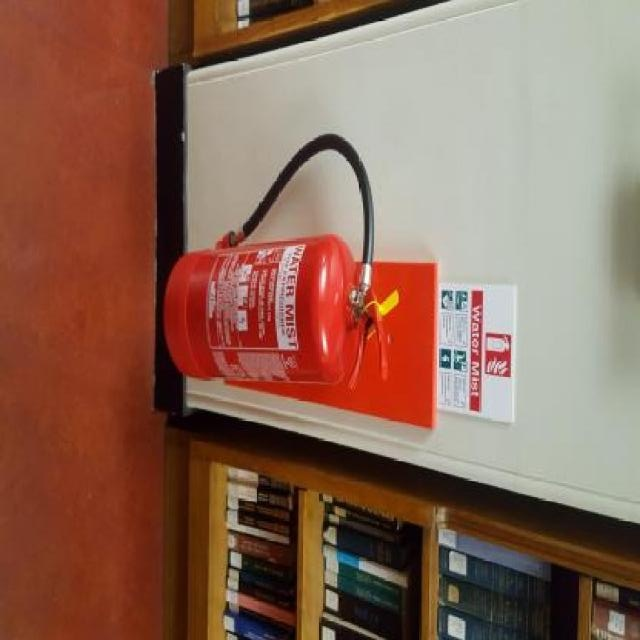fire extinguisher: (163, 134, 389, 392)
